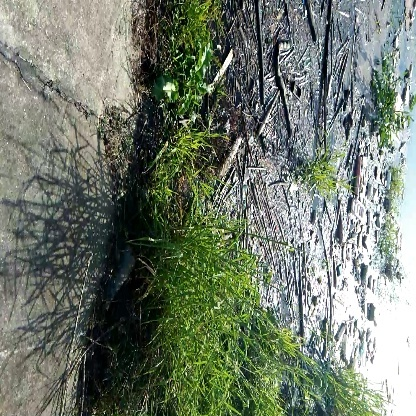branch: (315, 8, 345, 129), (252, 4, 273, 107)
